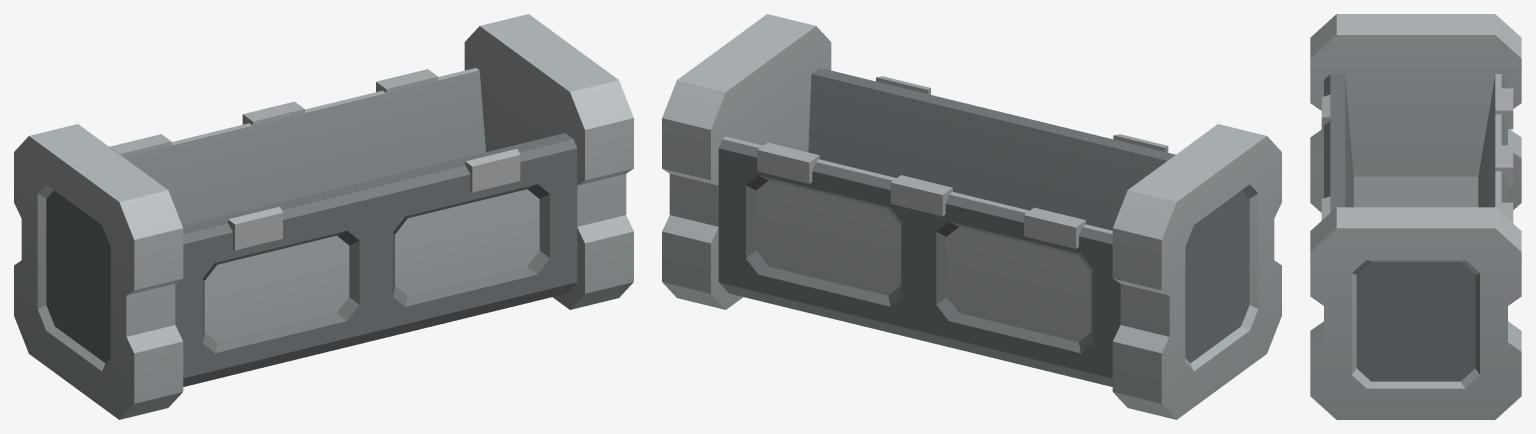
Rendered from Crate_009.fbx.
The picture shows the model from 3 angles, left to right: view 1: azimuth 30°, elevation 25°; view 2: azimuth 150°, elevation 25°; view 3: azimuth 270°, elevation 25°; orthographic projection. The views are drawn at different scales.
Parts seen in each view (by area): view 1: Crate_009; view 2: Crate_009; view 3: Crate_009.
Boxes of the visible parts, x1,y1,x2,y2 form: Crate_009: [14, 14, 633, 419]; Crate_009: [662, 14, 1281, 419]; Crate_009: [1310, 14, 1521, 419].
Bounding box in the file's own units: 120 × 50 × 50.
